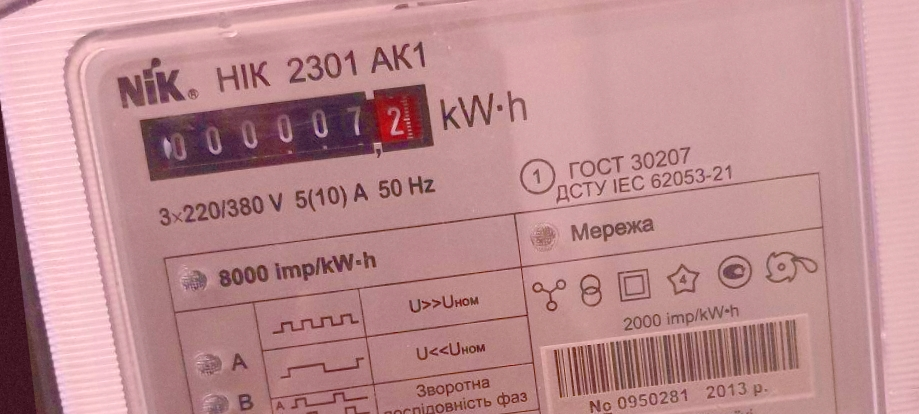0: (235, 113, 262, 153), (165, 126, 191, 164), (306, 103, 331, 141), (273, 109, 297, 148), (201, 120, 225, 157)
2: (382, 101, 407, 139)
7: (342, 100, 367, 140)
screen: (132, 75, 444, 189)
